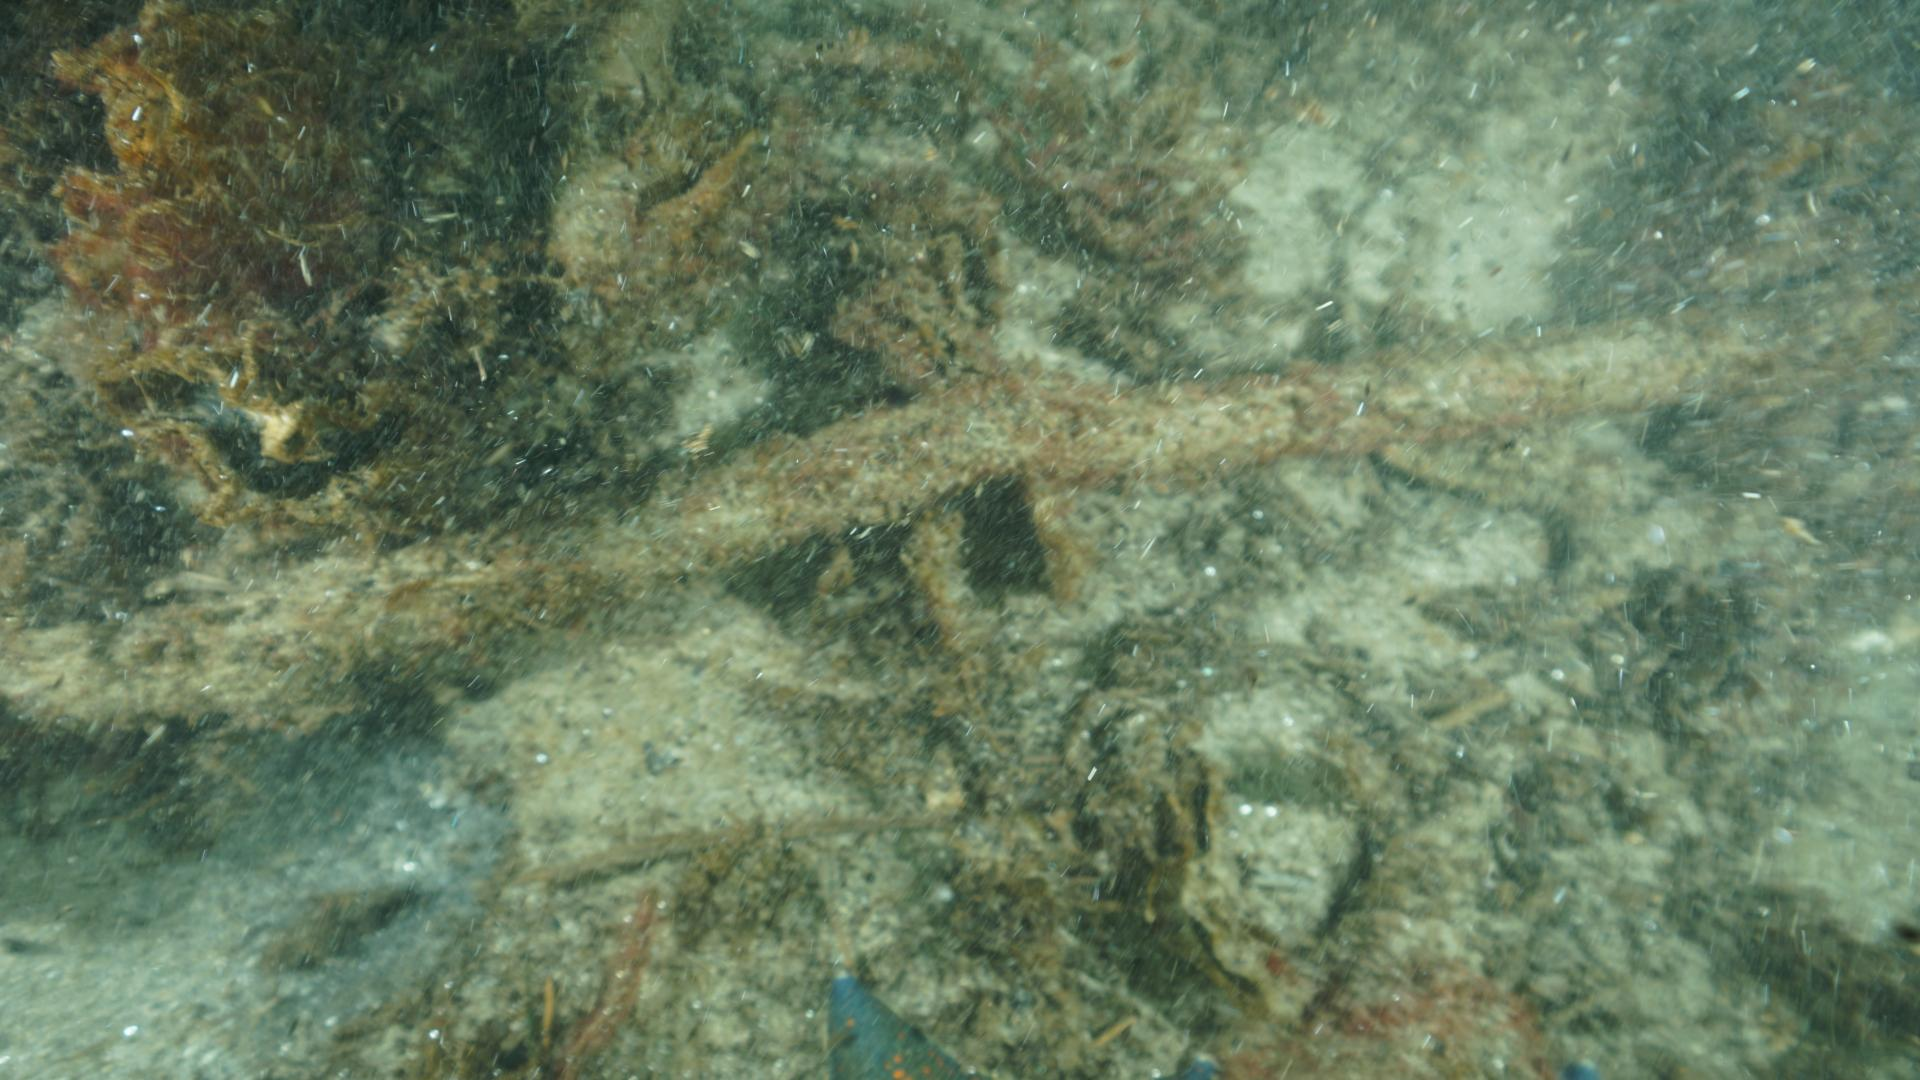rope: (7, 322, 1714, 737)
